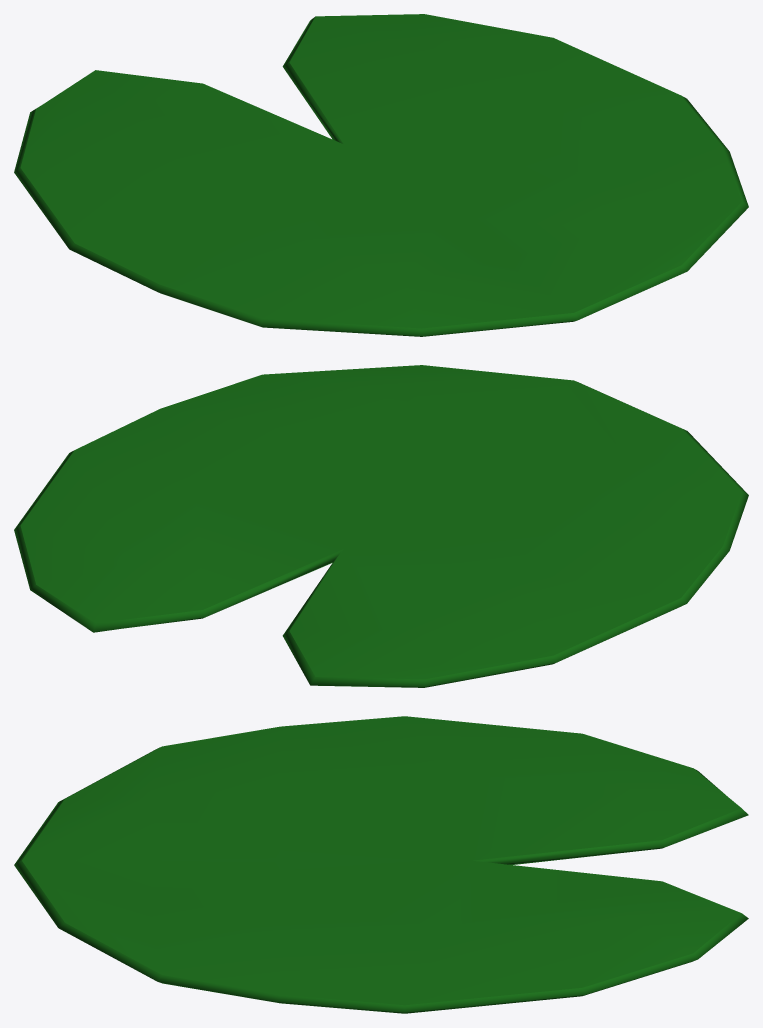
File: Lilypad.fbx
The picture shows the model from 3 angles, top to bottom: view 1: azimuth 30°, elevation 25°; view 2: azimuth 150°, elevation 25°; view 3: azimuth 270°, elevation 25°; orthographic projection. The views are drawn at different scales.
Visible parts, largest first — view 1: Circle.001; view 2: Circle.001; view 3: Circle.001.
Boxes of the visible parts, x1,y1,x2,y2 form: Circle.001: (14,14,748,336); Circle.001: (14,365,748,687); Circle.001: (14,716,748,1013).
Size of the model in its own units: 0.2147 by 0.00645 by 0.2264.
